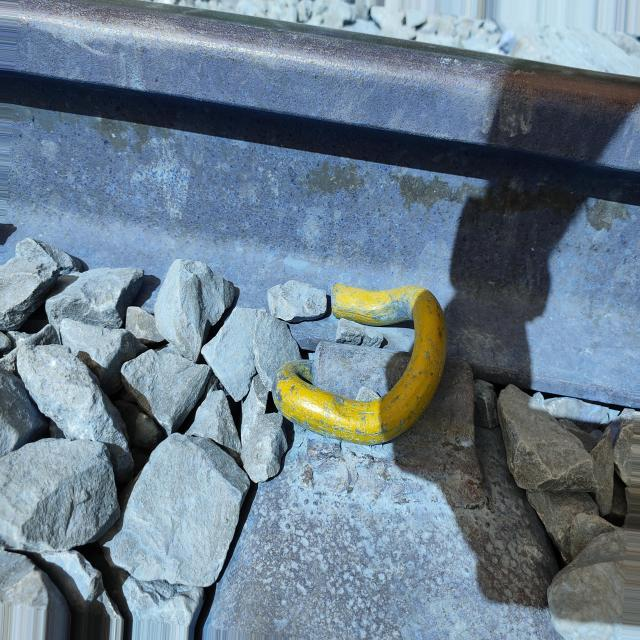Good Fasteners: (275, 284, 487, 509)
